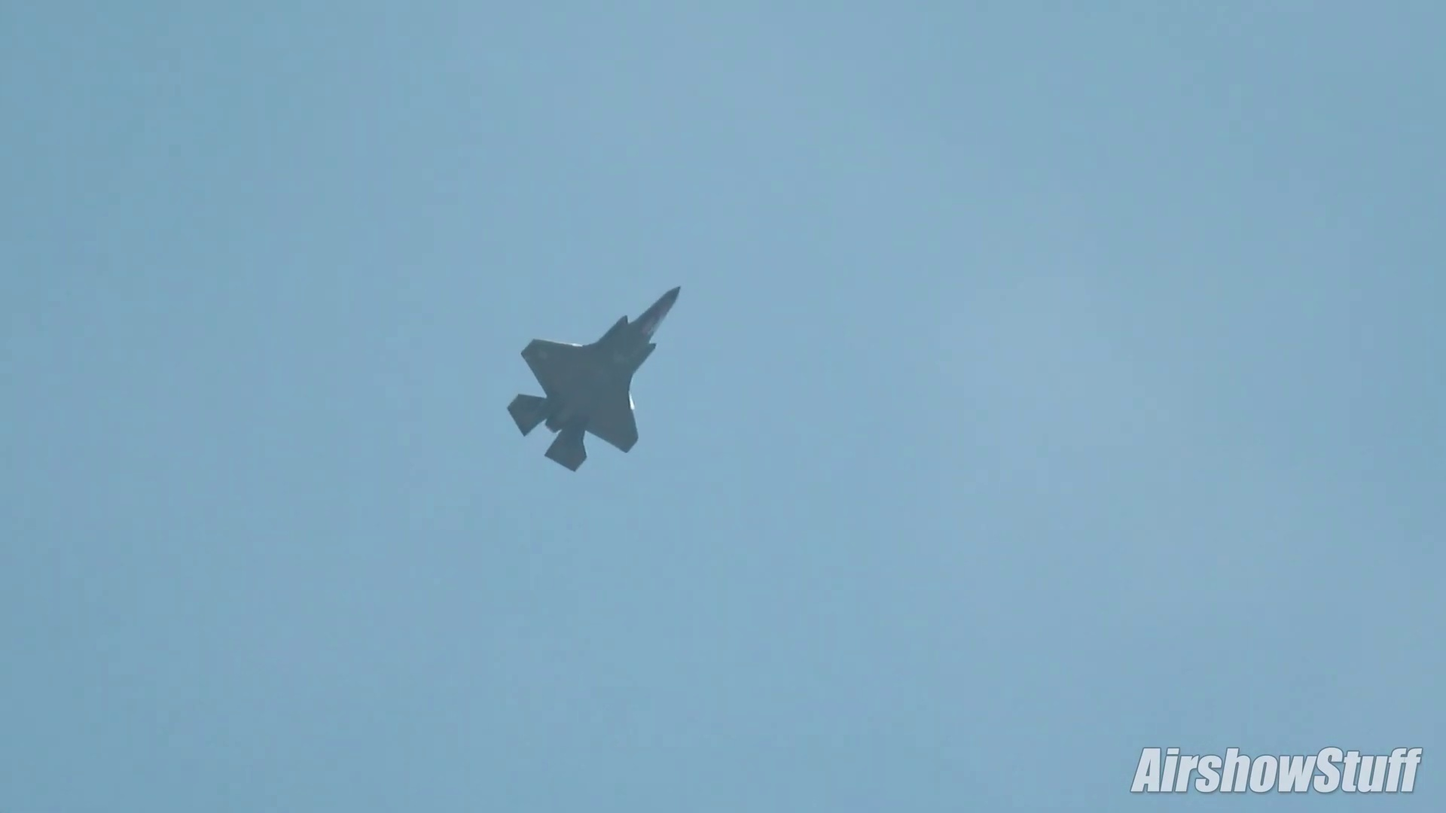F35: (501, 280, 685, 477)
